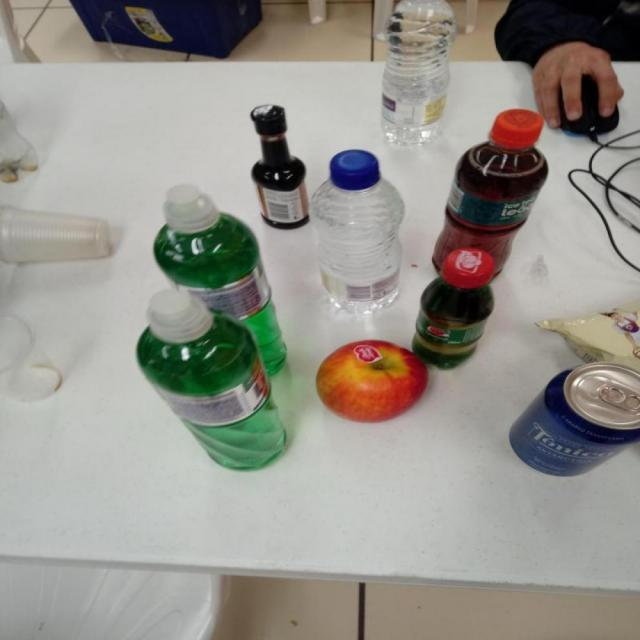Apple: (318, 339, 432, 424)
Cleaner: (136, 290, 291, 470), (154, 186, 292, 376)
CornFlakes: (534, 299, 640, 362)
EnglishSauce: (252, 106, 312, 228)
Guarana: (413, 246, 496, 372)
IceTea: (432, 111, 552, 273)
Tonic: (509, 361, 640, 476)
Water: (311, 152, 408, 316), (379, 1, 457, 150)
